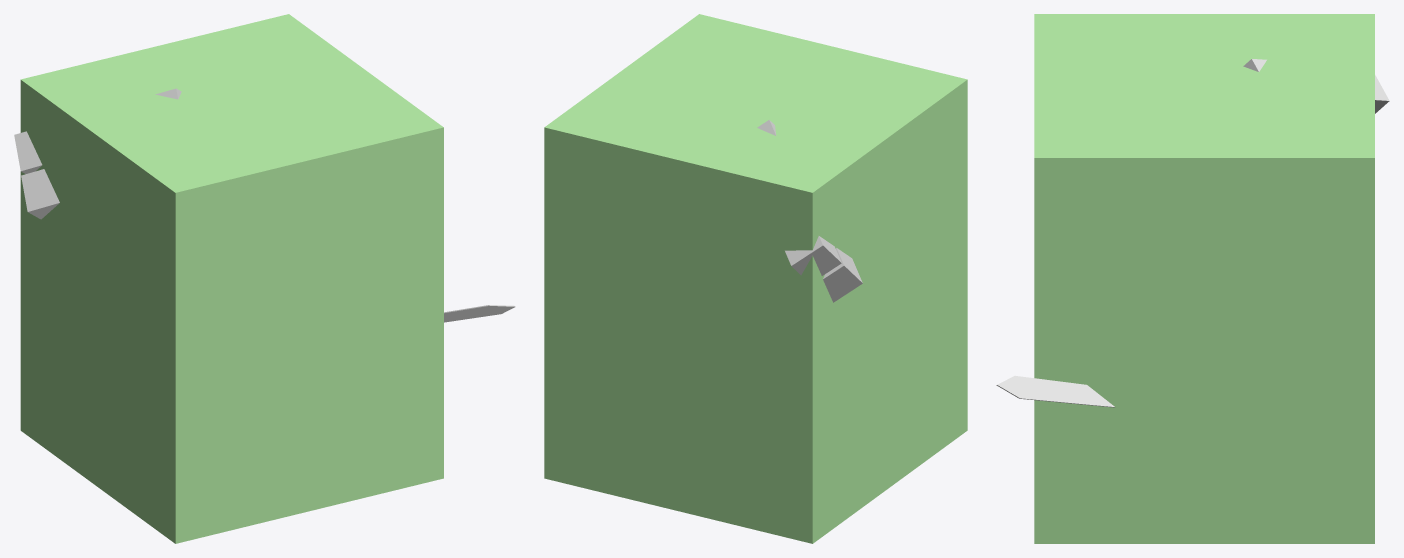
Rendered from Enemy_Melee02.fbx.
3 renders of one model, left to right at view 1: azimuth 30°, elevation 25°; view 2: azimuth 150°, elevation 25°; view 3: azimuth 270°, elevation 25°, orthographic. The views are drawn at different scales.
Parts seen in each view (by area): view 1: Cube.001; view 2: Cube.001; view 3: Cube.001.
Boxes of the visible parts, x1=… form: Cube.001: x1=14, y1=14, x2=515, y2=543; Cube.001: x1=544, y1=14, x2=967, y2=543; Cube.001: x1=996, y1=14, x2=1389, y2=543.
Bounding box in the file's own units: 257 × 256 × 231.
